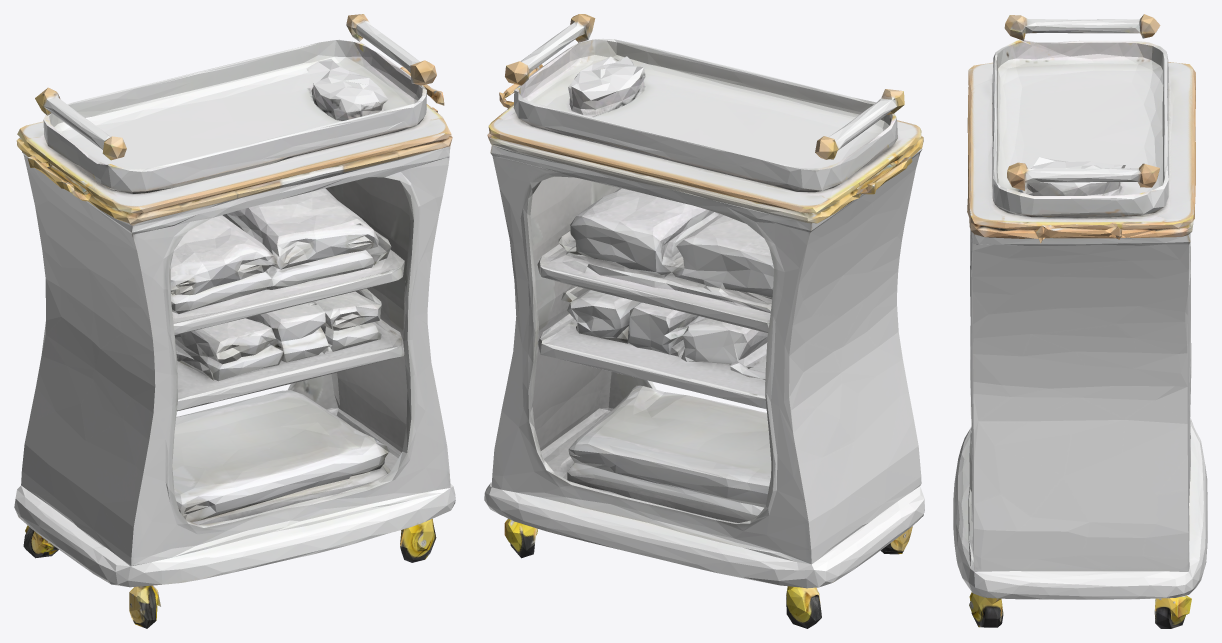
The model's file is Cruise_Housekeeping_C_0521075146_texture.fbx.
3 renders of one model, left to right at view 1: azimuth 30°, elevation 25°; view 2: azimuth 150°, elevation 25°; view 3: azimuth 270°, elevation 25°, orthographic.
Parts seen in each view (by area): view 1: temp; view 2: temp; view 3: temp.
Boxes of the visible parts, x1,y1,x2,y2 form: temp: (14,14,455,628); temp: (484,14,924,628); temp: (953,14,1207,628).
Bounding box in the file's own units: 165 × 200 × 97.56.
Materials: 1 (1 with a texture image).
